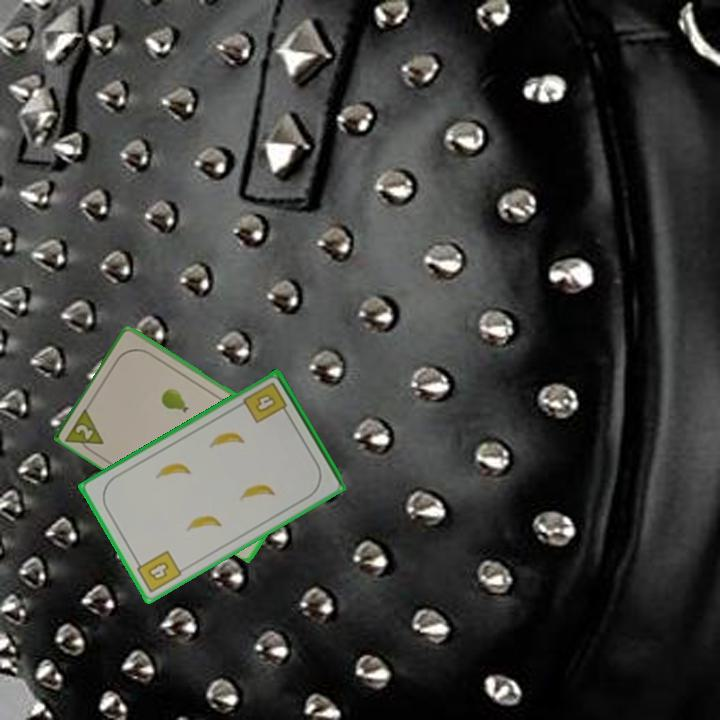2p: (62, 403, 107, 458)
4b: (131, 547, 185, 596), (240, 378, 292, 426)
